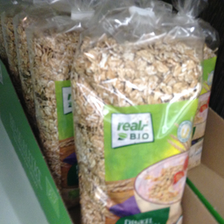cereal: (69, 34, 203, 223)
